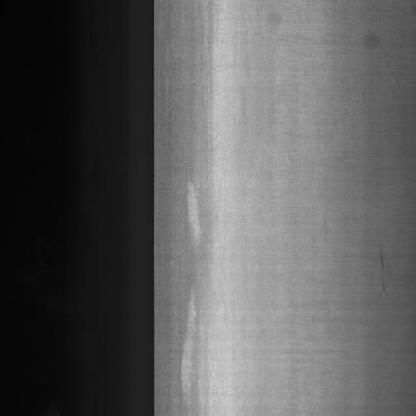water_spot: (369, 236, 394, 303)
